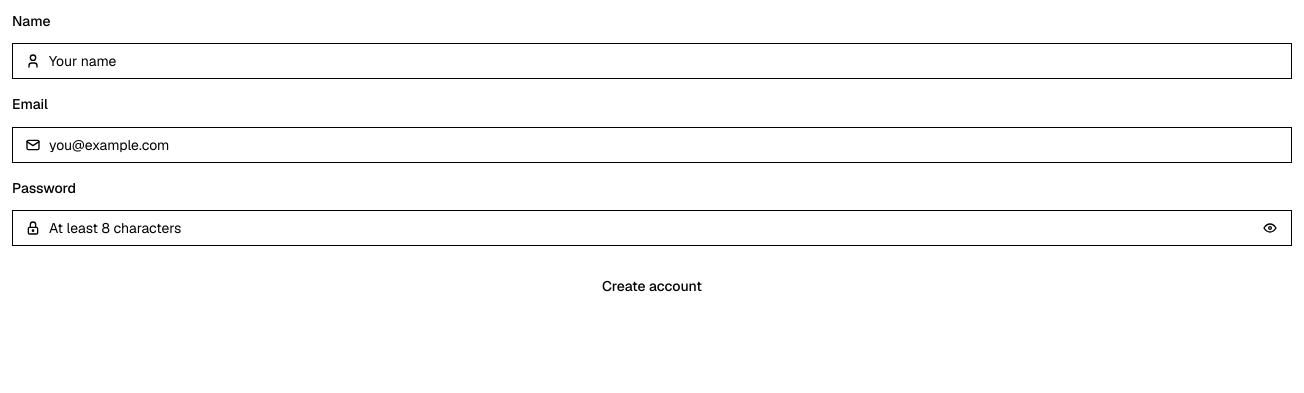
SignUpView › shows the server's error message and does not redirect when sign-up fails
Type "Ada Lovelace" into the field labelled "Name". click: coordinates (666, 61)
box: x1=41 y1=43 x2=1291 y2=79
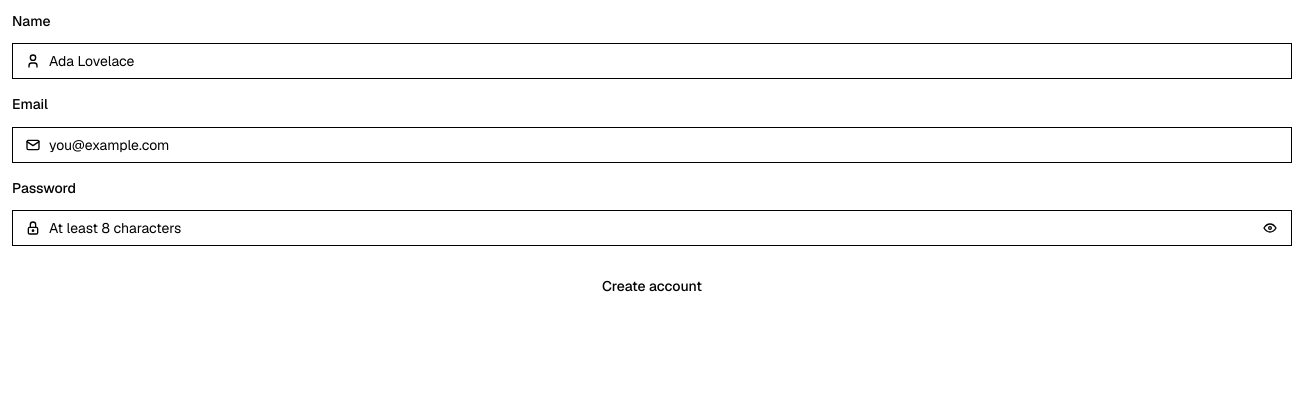
Type "ada@example.com" into the field labelled "Email". click: coordinates (666, 144)
box: x1=41 y1=126 x2=1291 y2=162
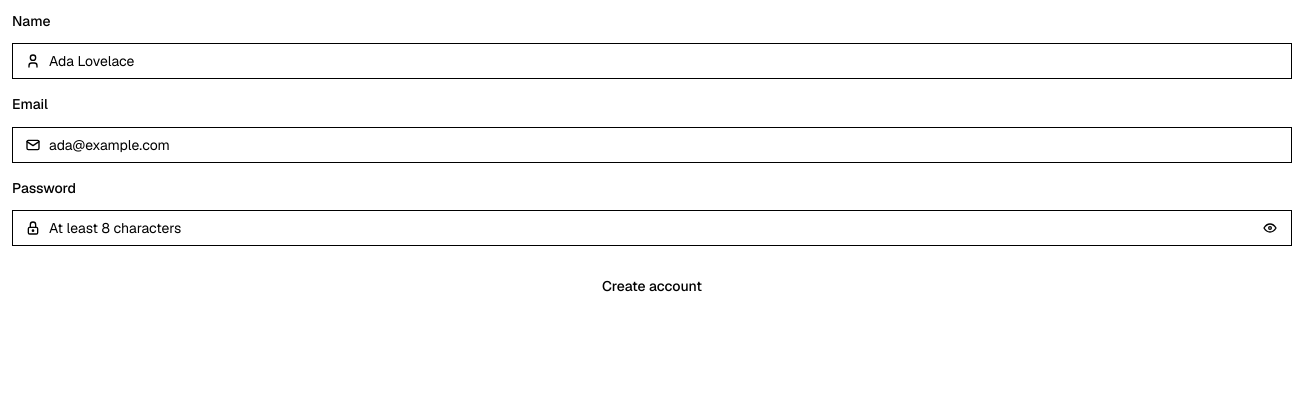
Type "password1234" into the password field labelled "Password". click: coordinates (648, 228)
box: x1=41 y1=210 x2=1254 y2=246
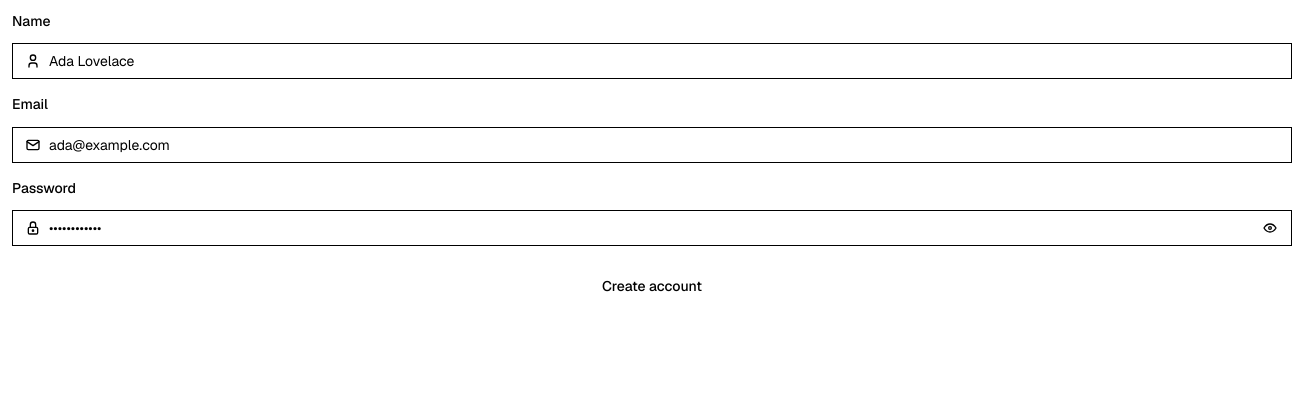
Click the button "Create account". click: coordinates (652, 286)
box: x1=12 y1=266 x2=1292 y2=306
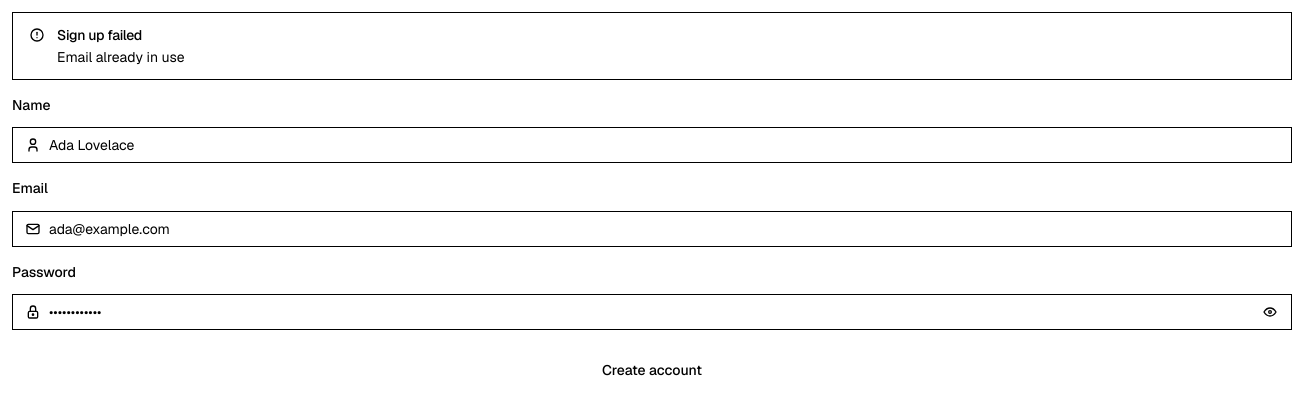
Check: the text "Email already in use" is shown, box x1=57 y1=48 x2=184 y2=66
